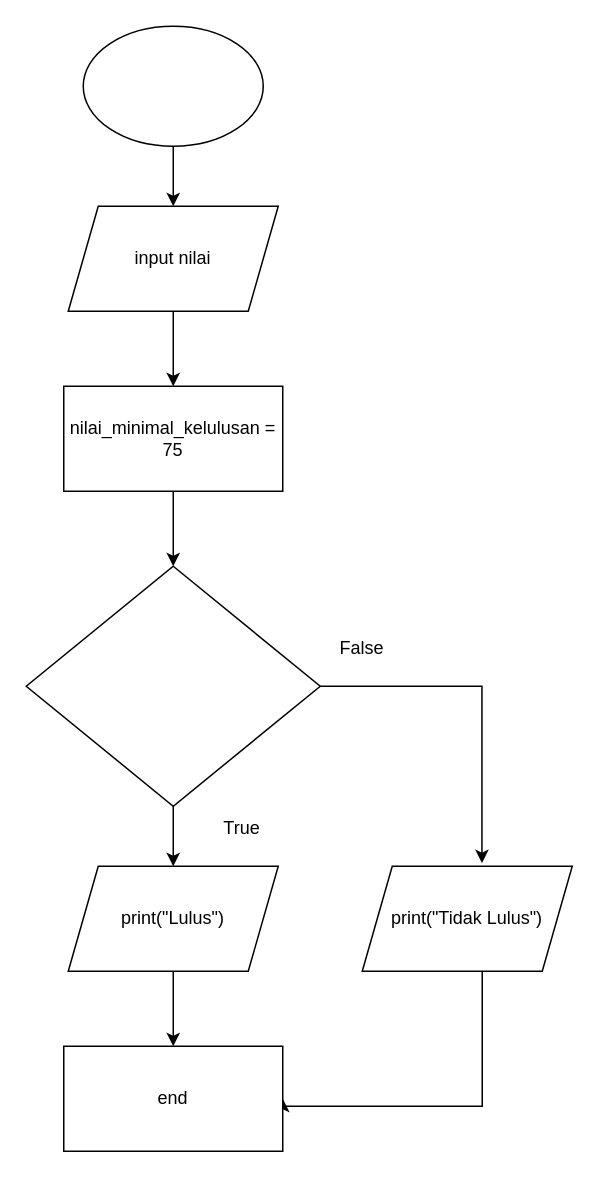
The diagram is 599 pixels wide and 1178 high, and some of its shapes have lost their labels. The shapes that lost their labels are listed below. From the top down, each one's centre as x and y in pixels, then its label:
At point (172, 85): "start".
At point (172, 685): "if nilai >= nilai_minimal_kelulusan:".
